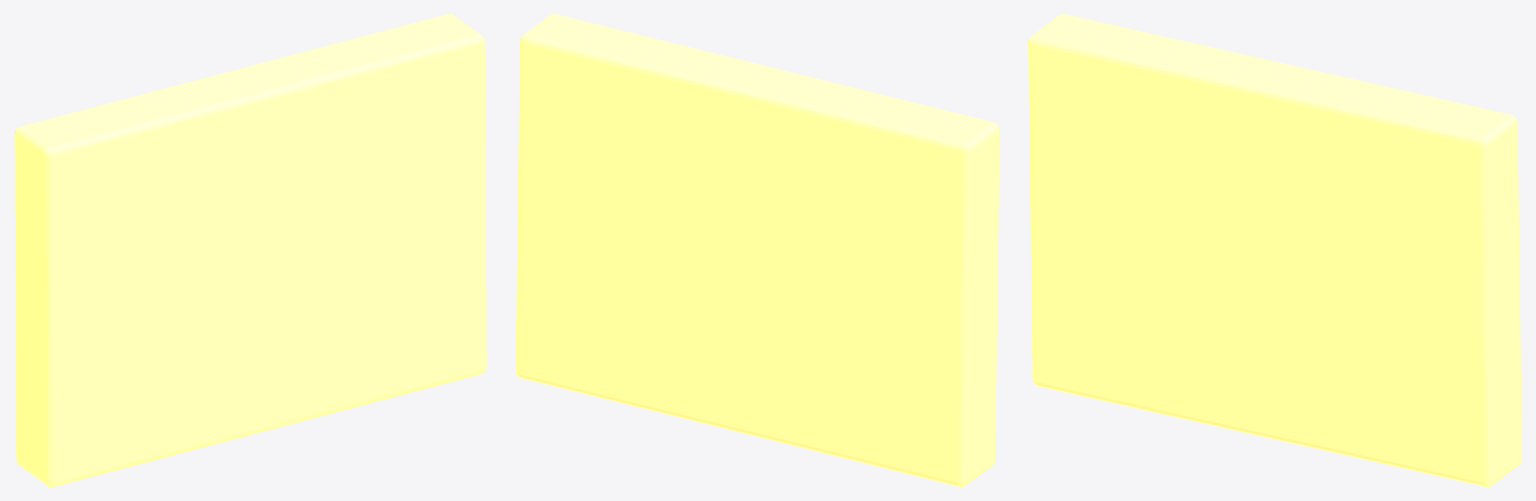
File: door_live.glb
3 views of the same model, side by side, from view 1: azimuth 30°, elevation 25°; view 2: azimuth 150°, elevation 25°; view 3: azimuth 330°, elevation 25° (orthographic). The views are drawn at different scales.
Visible parts, largest first — view 1: ShopGlow; view 2: ShopGlow; view 3: ShopGlow.
Part boxes in pixels (x1,y1,x2,y2): ShopGlow: (14, 14, 486, 486); ShopGlow: (515, 14, 999, 486); ShopGlow: (1028, 14, 1521, 486).
Bounding box in the file's own units: 0.7566 × 0.5587 × 0.1141.
